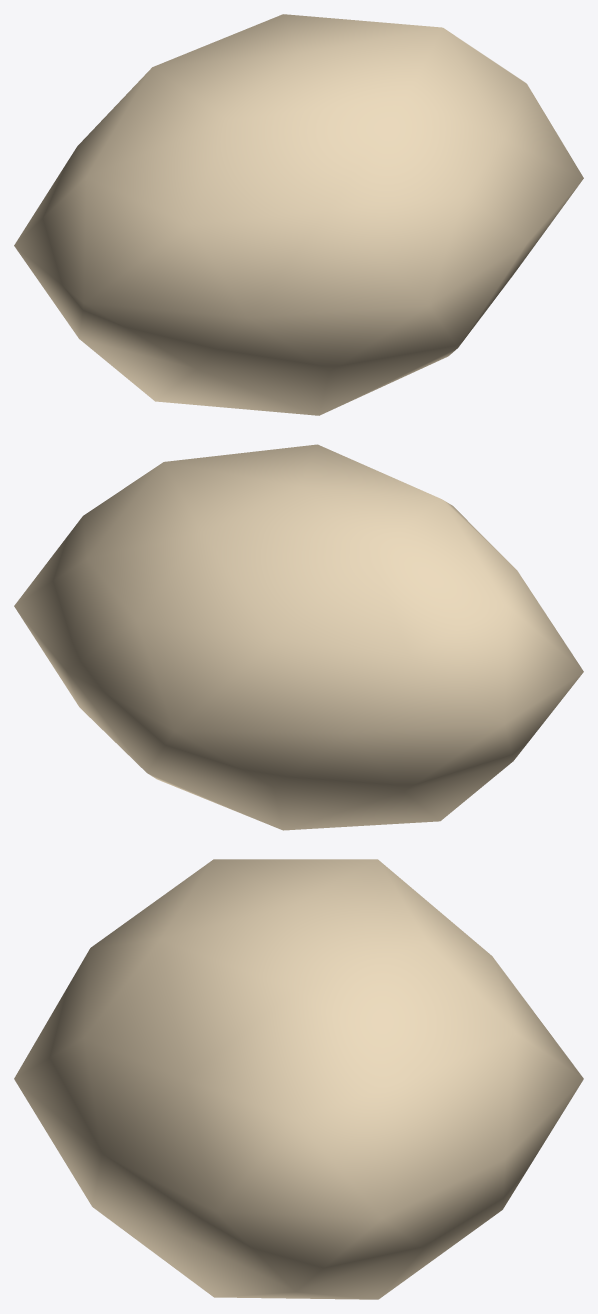
File: RUBBEL_KIESEL_3.glb
3 views of the same model, one above another, from view 1: azimuth 30°, elevation 25°; view 2: azimuth 150°, elevation 25°; view 3: azimuth 270°, elevation 25° (orthographic). The views are drawn at different scales.
Parts seen in each view (by area): view 1: RUBBEL_KIESEL_3; view 2: RUBBEL_KIESEL_3; view 3: RUBBEL_KIESEL_3.
Boxes of the visible parts, box(x1,y1,x2,y2) form: RUBBEL_KIESEL_3: box(14, 14, 583, 415); RUBBEL_KIESEL_3: box(14, 444, 583, 830); RUBBEL_KIESEL_3: box(14, 859, 583, 1299).
Size of the model in its own units: 0.5372 by 0.3155 by 0.467.
